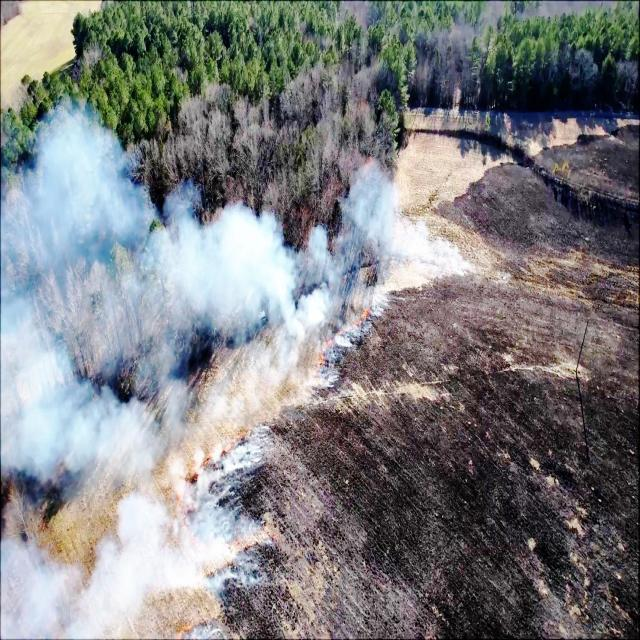Smoke: (5, 480, 250, 640), (148, 192, 338, 364), (3, 305, 160, 504), (0, 106, 148, 290), (352, 166, 474, 311)
